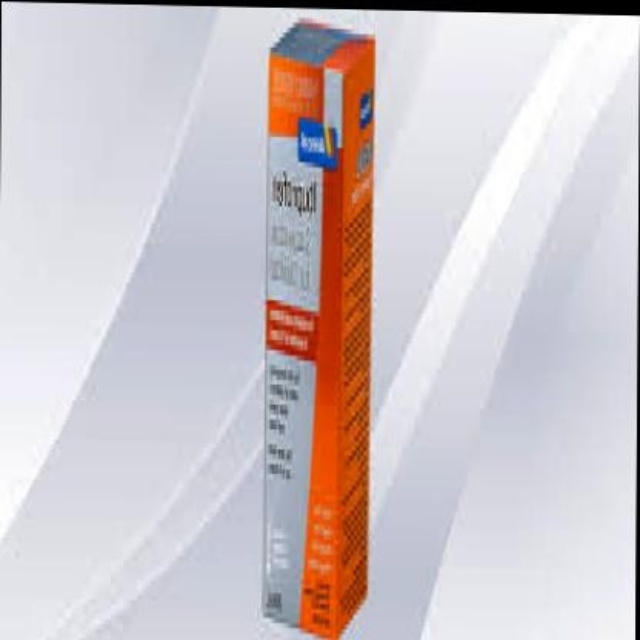trash: (263, 22, 374, 638)
